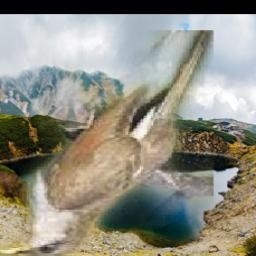Cuckoo: (0, 31, 214, 256)
